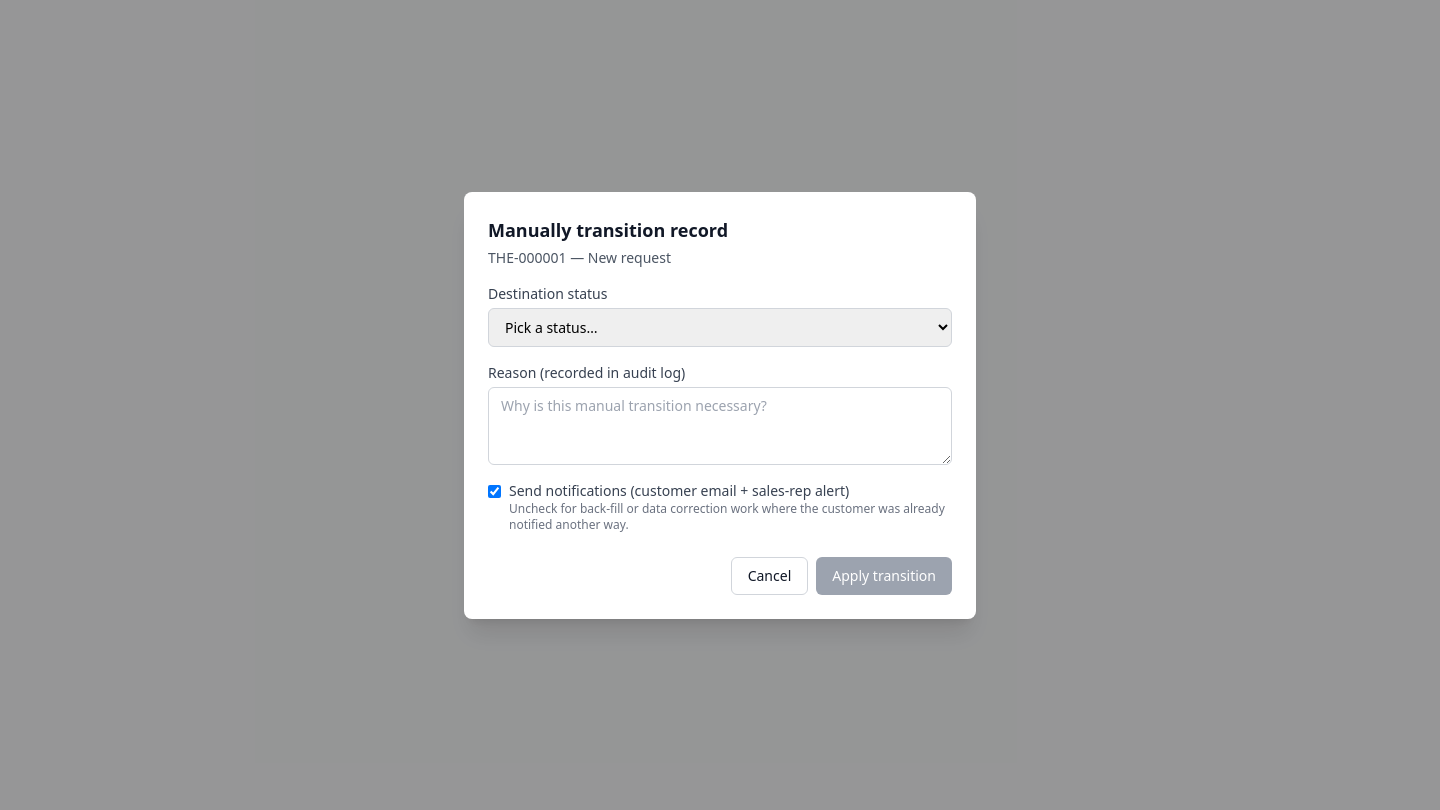
Scenario: ManualTransitionModal › enables submit when both status and reason are filled
Select "An appraiser has been assigned" in the dropdown labelled "Destination status" at (720, 327), box [488, 308, 952, 346]
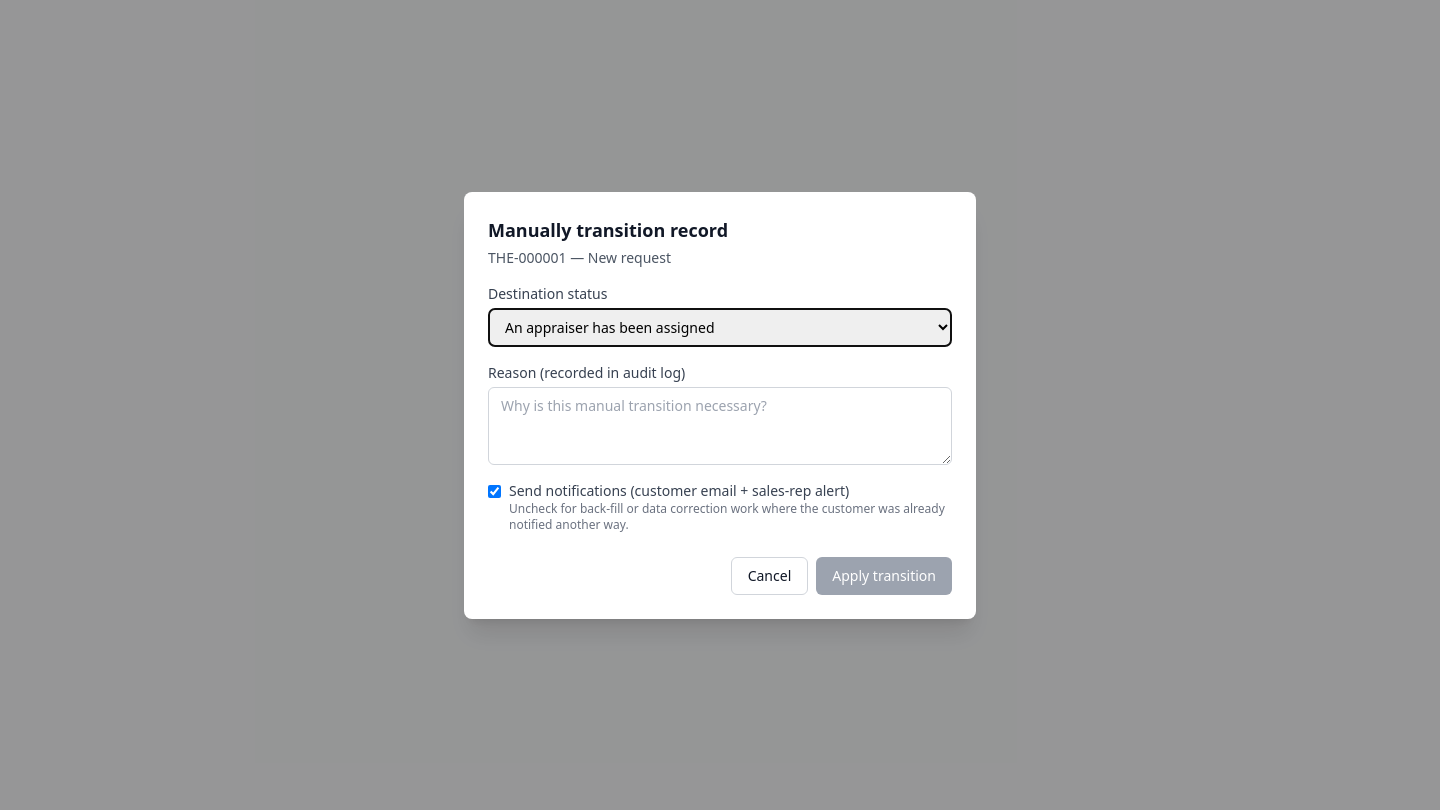
Type "Testing transition" into the text box labelled "Reason (recorded in audit log)" at (720, 426), box [488, 386, 952, 464]
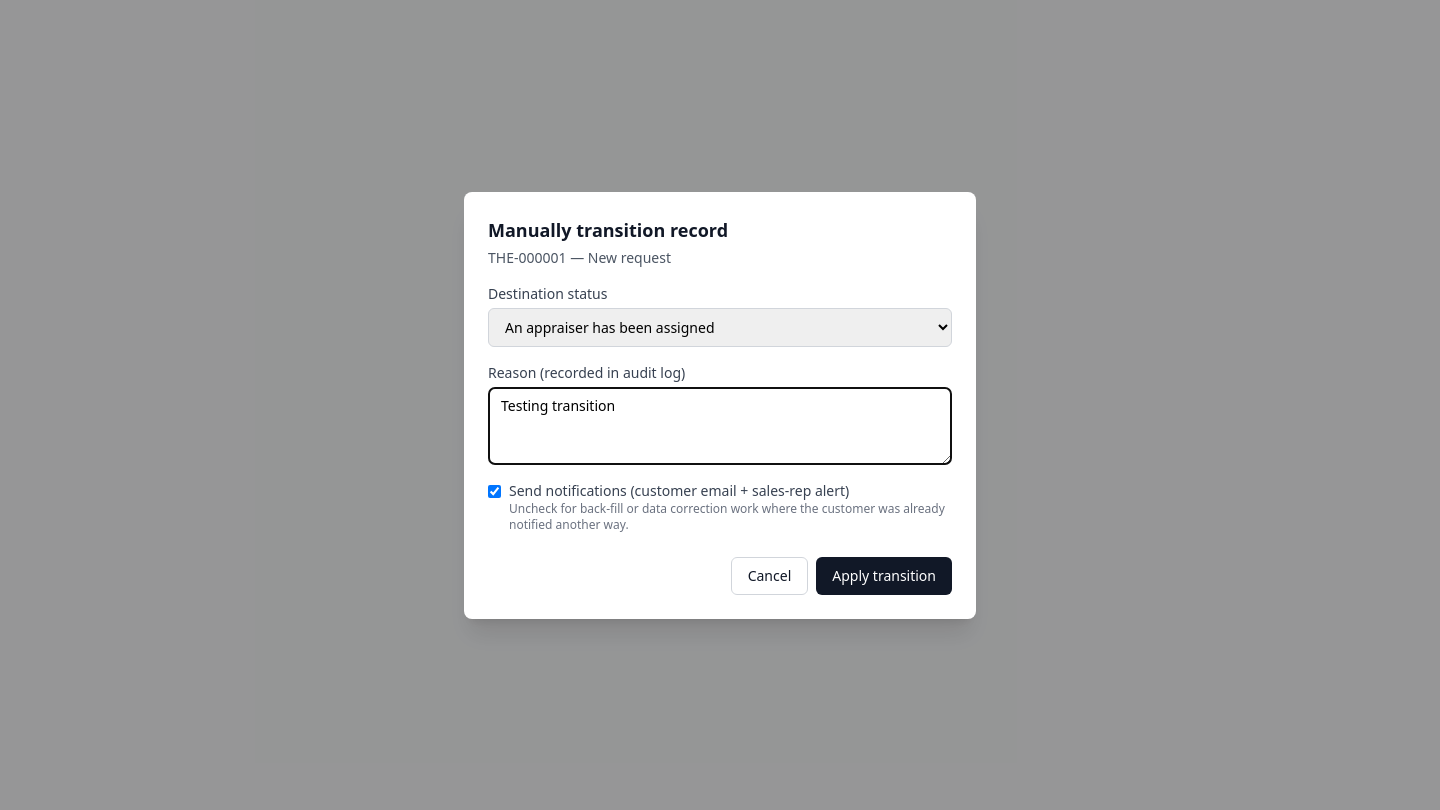
Expected: the button "Apply transition" is enabled, [816, 556, 952, 594]
